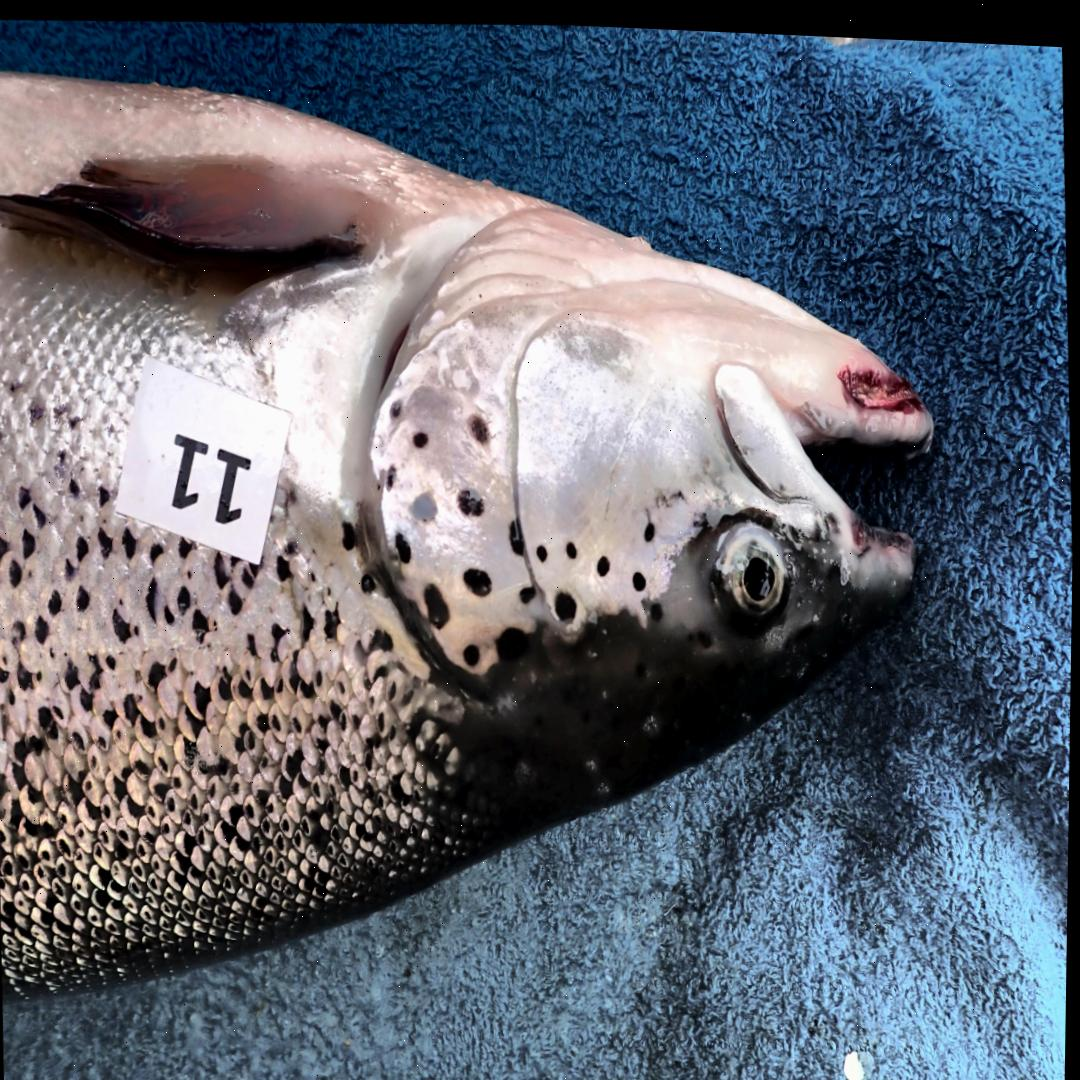spot: (424, 581, 449, 624), (463, 563, 492, 589), (457, 484, 484, 511), (411, 487, 436, 516), (556, 586, 578, 616), (469, 411, 489, 438), (395, 528, 413, 557), (510, 513, 524, 549), (463, 639, 481, 659), (632, 563, 647, 584), (412, 426, 428, 443), (597, 549, 610, 569), (521, 581, 536, 598), (385, 461, 396, 484), (644, 516, 655, 534), (390, 397, 401, 414), (566, 537, 577, 551), (537, 540, 548, 554)
